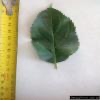Apple leaf: (27, 1, 83, 72)
